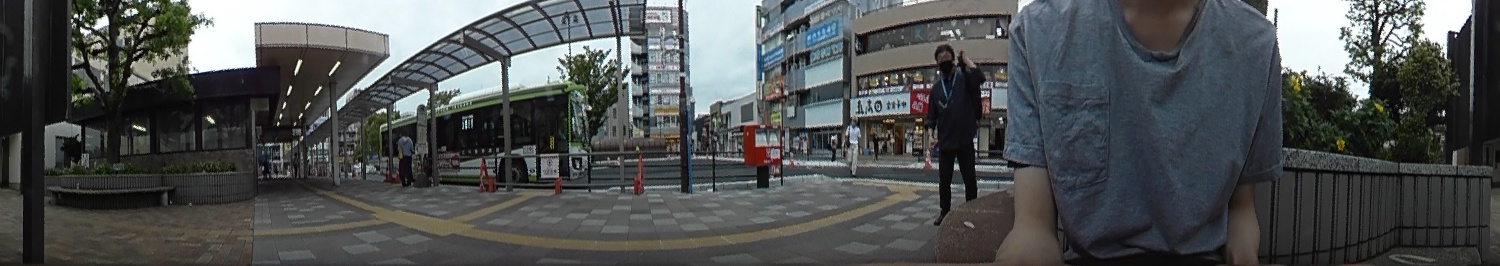person: (924, 45, 985, 215), (398, 127, 414, 185), (845, 118, 862, 172)
